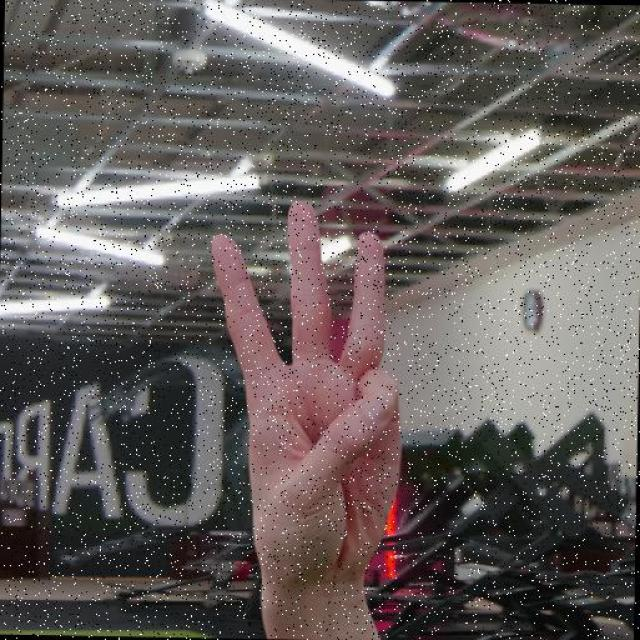W: (198, 196, 443, 614)
